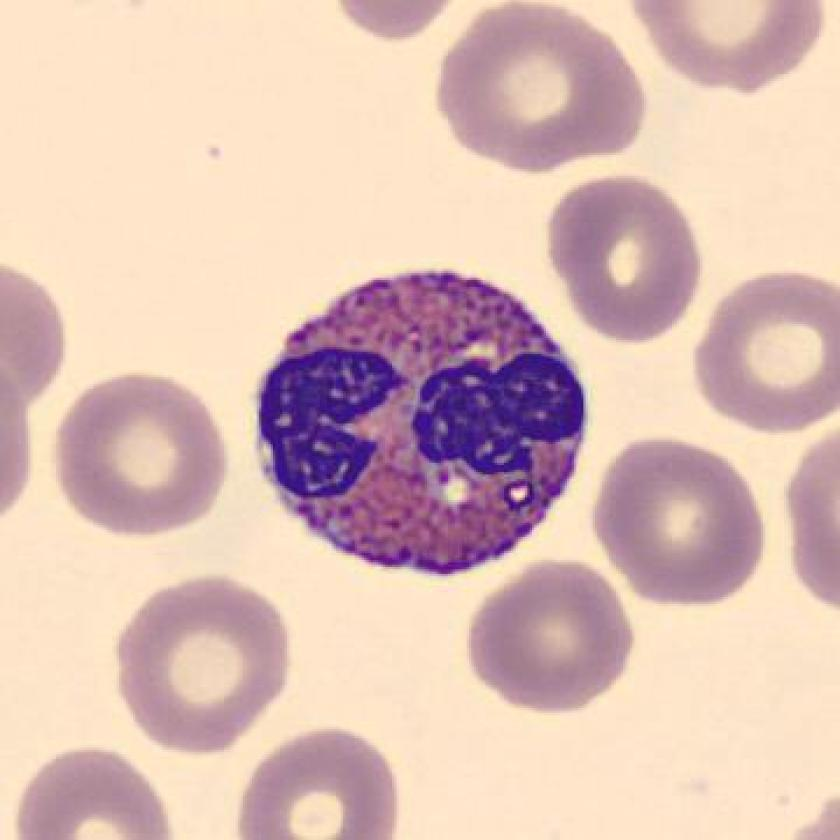eosinophil: (248, 258, 601, 593)
